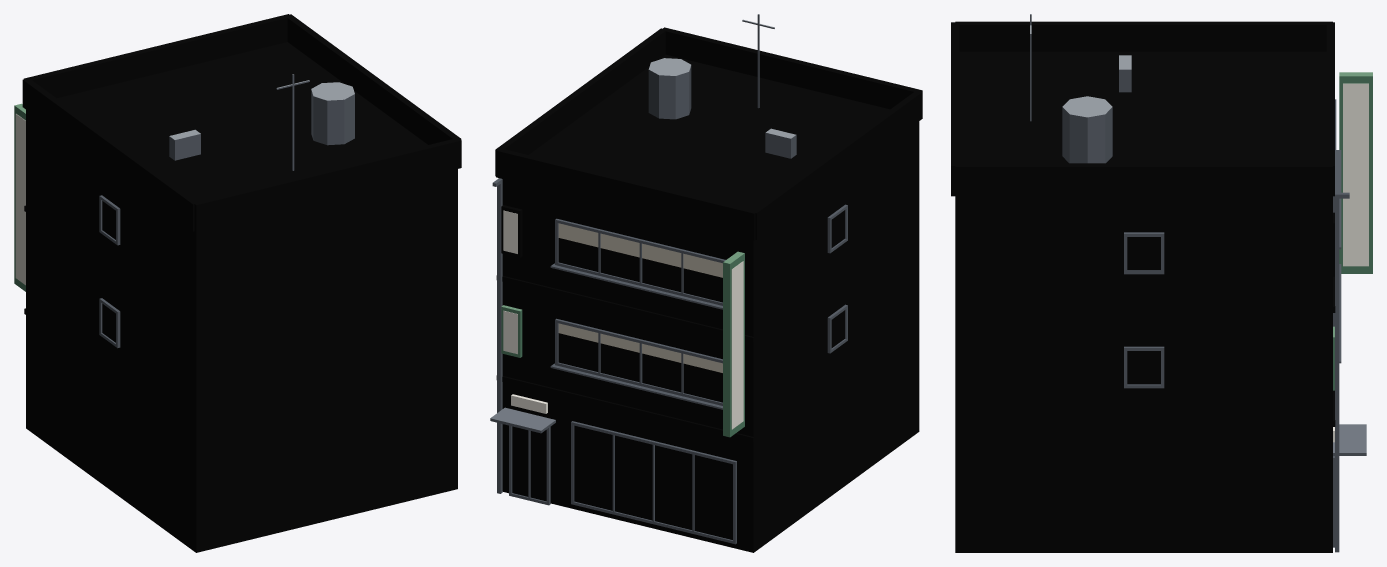
File: Zakkyo_B2.fbx
3 renders of one model, left to right at view 1: azimuth 30°, elevation 25°; view 2: azimuth 150°, elevation 25°; view 3: azimuth 270°, elevation 25°, orthographic. The views are drawn at different scales.
Visible parts, largest first — view 1: Body.014, RoofTop.010, RoofThings.003, GlowBlade.003, WinFrame.022, Glass.022, Blade.003; view 2: Body.014, RoofTop.010, Glass.022, WinFrame.022, Curtain0.020, RoofThings.003, Floors.002, LitGlassDim.012, Blade.003, GlowBlade.003, Pipes.022, EntranceHood.002 (+4 smaller); view 3: Body.014, RoofTop.010, GlowBlade.003, RoofThings.003, WinFrame.022, Glass.022, Blade.003, Pipes.022, EntranceHood.002.
Part boxes in pixels (x1,y1,x2,y2): Body.014: [26, 110, 457, 552]; RoofTop.010: [22, 14, 461, 232]; RoofThings.003: [169, 74, 354, 170]; GlowBlade.003: [15, 114, 25, 285]; WinFrame.022: [99, 195, 120, 348]; Glass.022: [102, 201, 115, 342]; Blade.003: [14, 103, 25, 291]; Body.014: [502, 121, 919, 552]; RoofTop.010: [495, 27, 922, 240]; Glass.022: [558, 210, 844, 539]; WinFrame.022: [509, 204, 847, 544]; Curtain0.020: [558, 223, 722, 372]; RoofThings.003: [648, 14, 796, 158]; Floors.002: [496, 275, 754, 442]; LitGlassDim.012: [512, 426, 546, 501]; Blade.003: [723, 251, 744, 437]; GlowBlade.003: [731, 261, 743, 429]; Pipes.022: [492, 178, 502, 493]; EntranceHood.002: [490, 407, 555, 433]; Body.014: [955, 197, 1332, 552]; RoofTop.010: [951, 21, 1334, 197]; GlowBlade.003: [1343, 83, 1368, 266]; RoofThings.003: [1030, 14, 1131, 163]; WinFrame.022: [1124, 99, 1341, 547]; Glass.022: [1127, 237, 1160, 384]; Blade.003: [1339, 72, 1372, 273]; Pipes.022: [1335, 192, 1349, 552]; EntranceHood.002: [1333, 424, 1366, 455].
Bounding box in the file's own units: 8.2 × 12.33 × 10.05.
